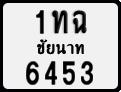letters: (51, 9, 69, 34), (25, 59, 40, 86), (43, 59, 58, 86), (61, 59, 76, 86), (72, 9, 88, 34), (80, 60, 95, 86), (34, 9, 46, 35)
province: (35, 38, 85, 56)
